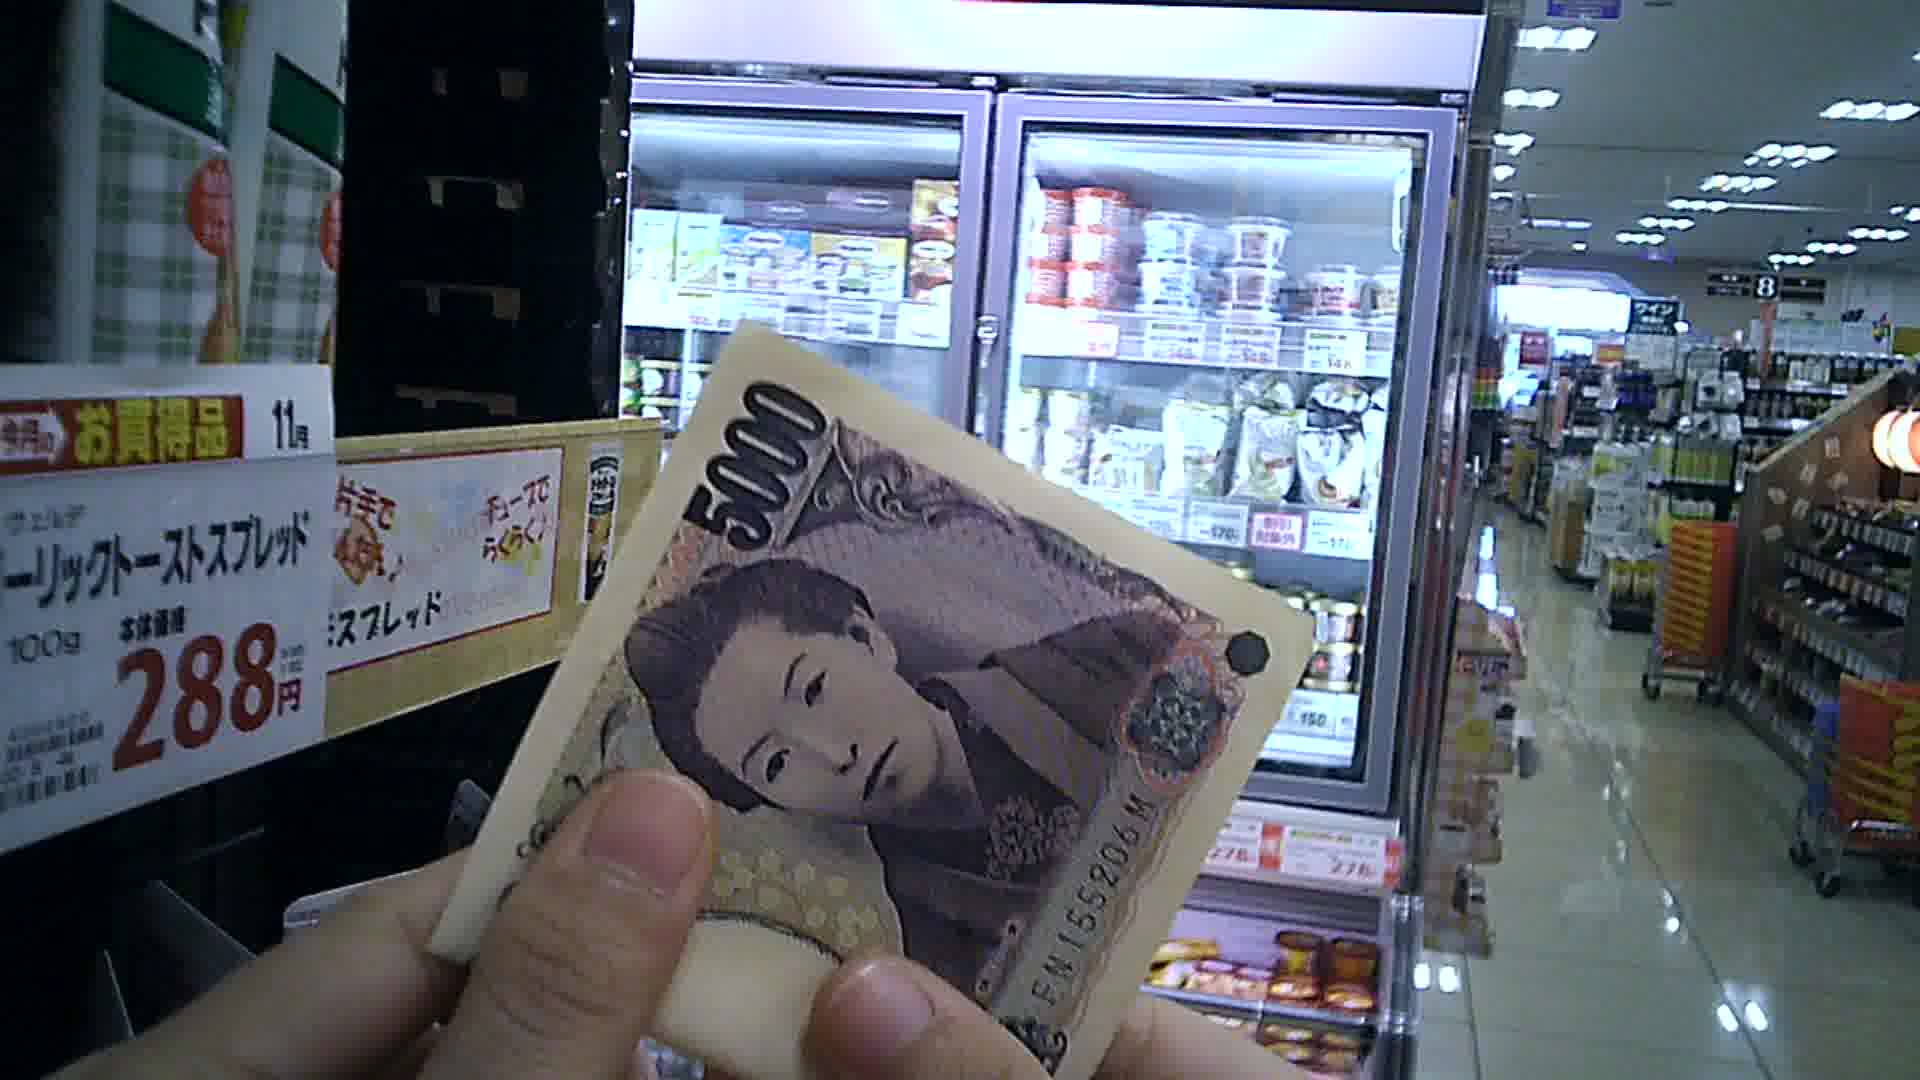5,000 Yen: (433, 330, 1299, 1079)
